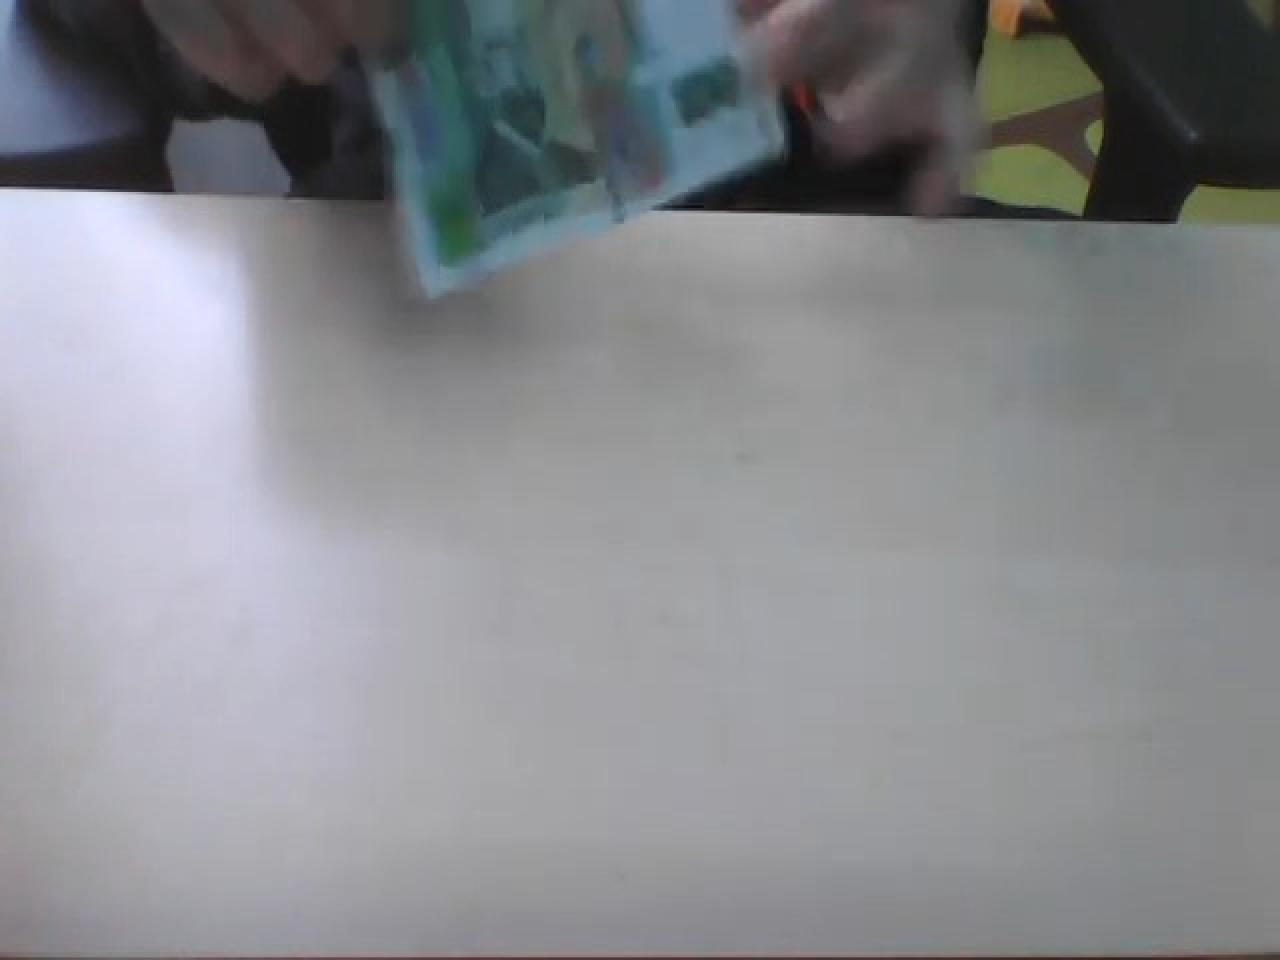100leva: (366, 0, 790, 298)
